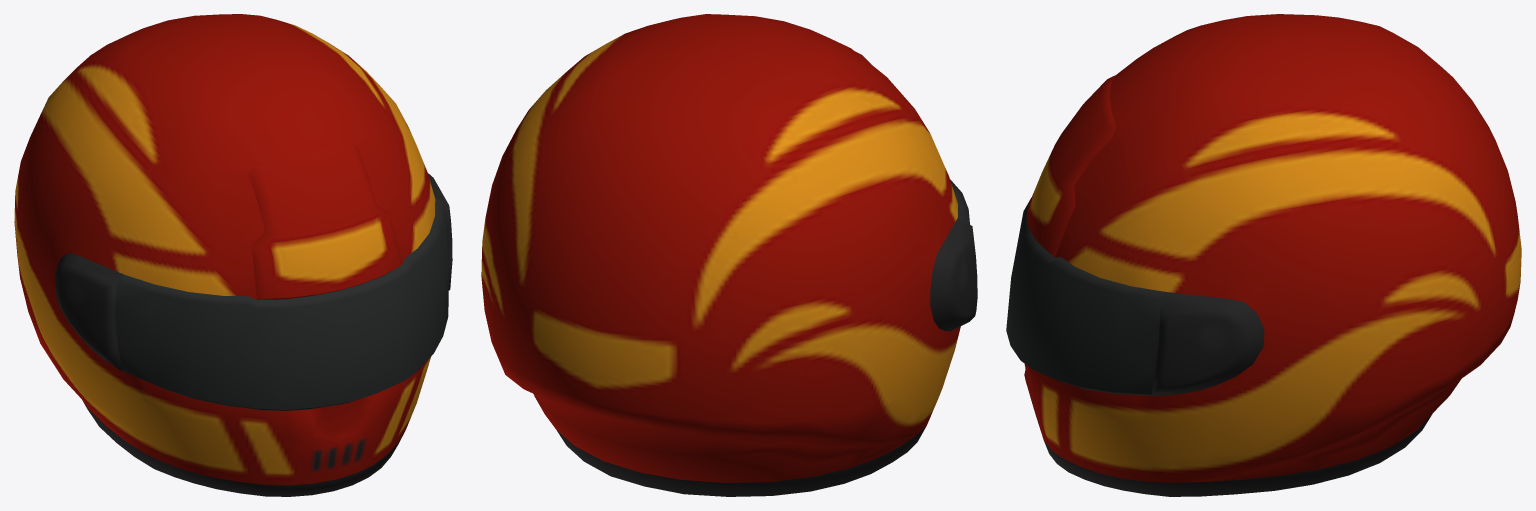
The model's file is CapFullfaceRacing0.glb.
The picture shows the model from 3 angles, left to right: view 1: azimuth 30°, elevation 25°; view 2: azimuth 150°, elevation 25°; view 3: azimuth 270°, elevation 25°; orthographic projection. The views are drawn at different scales.
Visible parts, largest first — view 1: Body__mCap, BodyAlpha__mCapAlpha; view 2: Body__mCap; view 3: Body__mCap, BodyAlpha__mCapAlpha.
Part boxes in pixels (left/top/right/bottom): Body__mCap: left=14, top=14, right=452, bottom=496; BodyAlpha__mCapAlpha: left=115, top=199, right=448, bottom=410; Body__mCap: left=481, top=14, right=977, bottom=496; Body__mCap: left=1024, top=14, right=1521, bottom=496; BodyAlpha__mCapAlpha: left=1006, top=197, right=1163, bottom=395.
Bounding box in the file's own units: 7.93 × 7.57 × 8.69.
2 materials, 2 textured.
